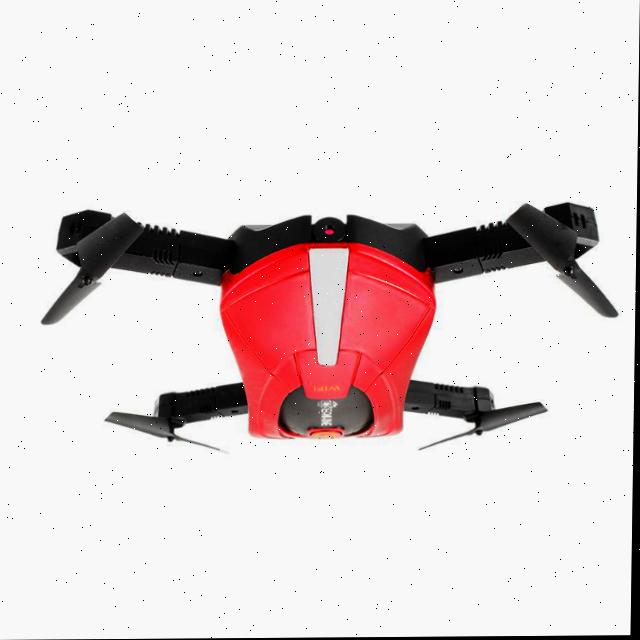drone: (0, 168, 638, 528)
